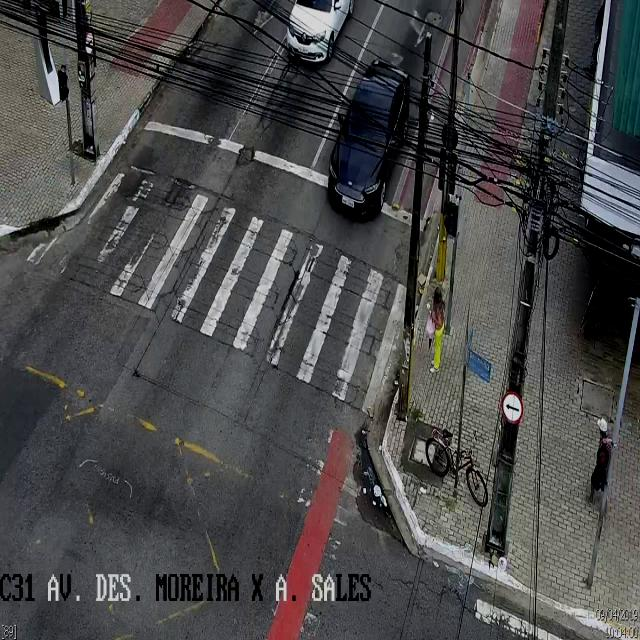Car: (329, 58, 409, 220), (285, 2, 349, 63)
